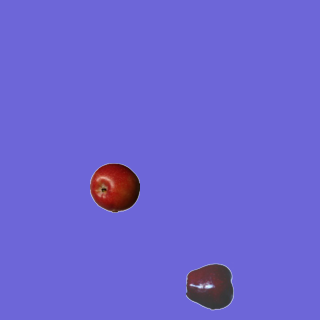Apple Braeburn: (89, 162, 139, 212)
Apple Red Delicious: (185, 261, 235, 311)
